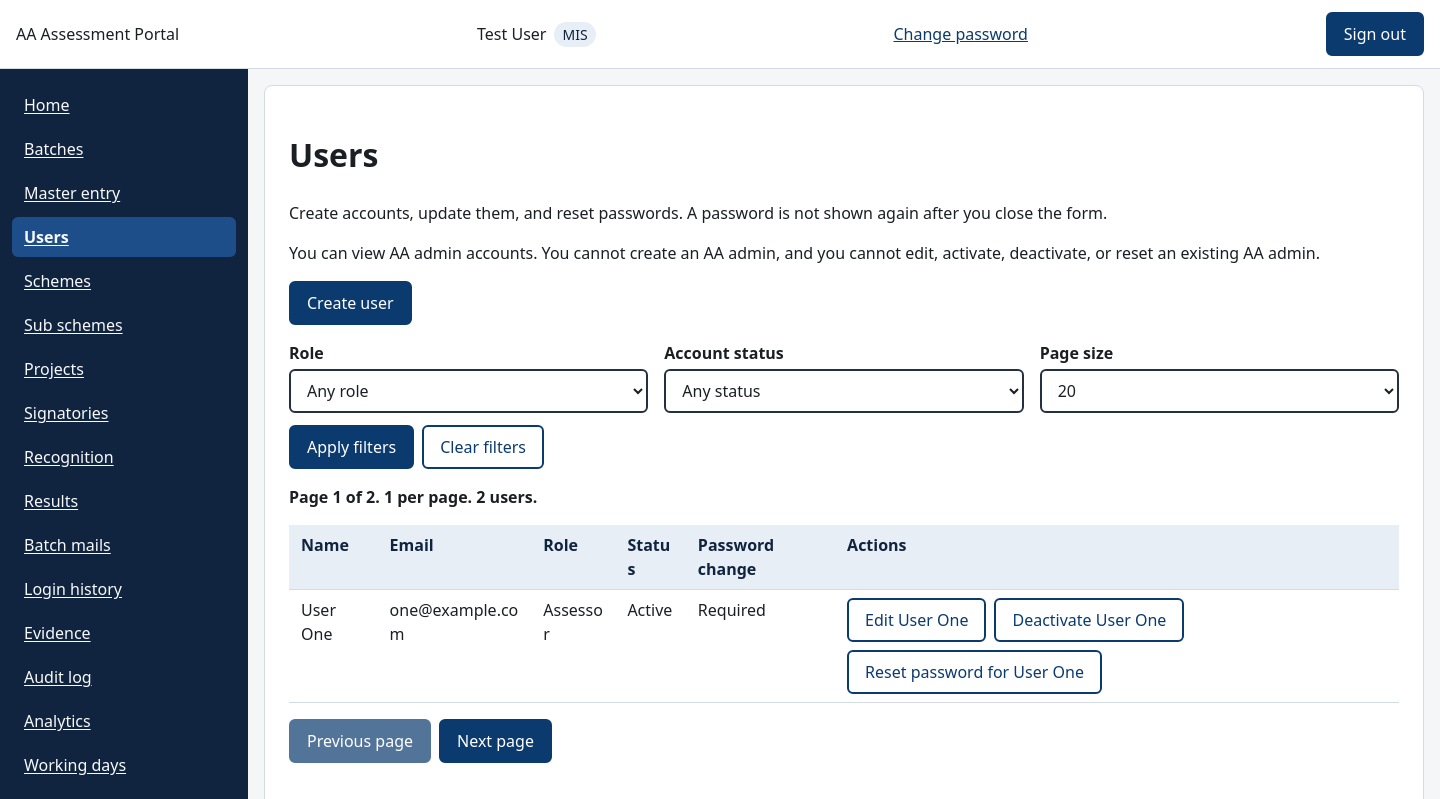
it: filters by role and account status and returns to page 1
Click the button "Next page" at (496, 741), box [439,719,552,763]
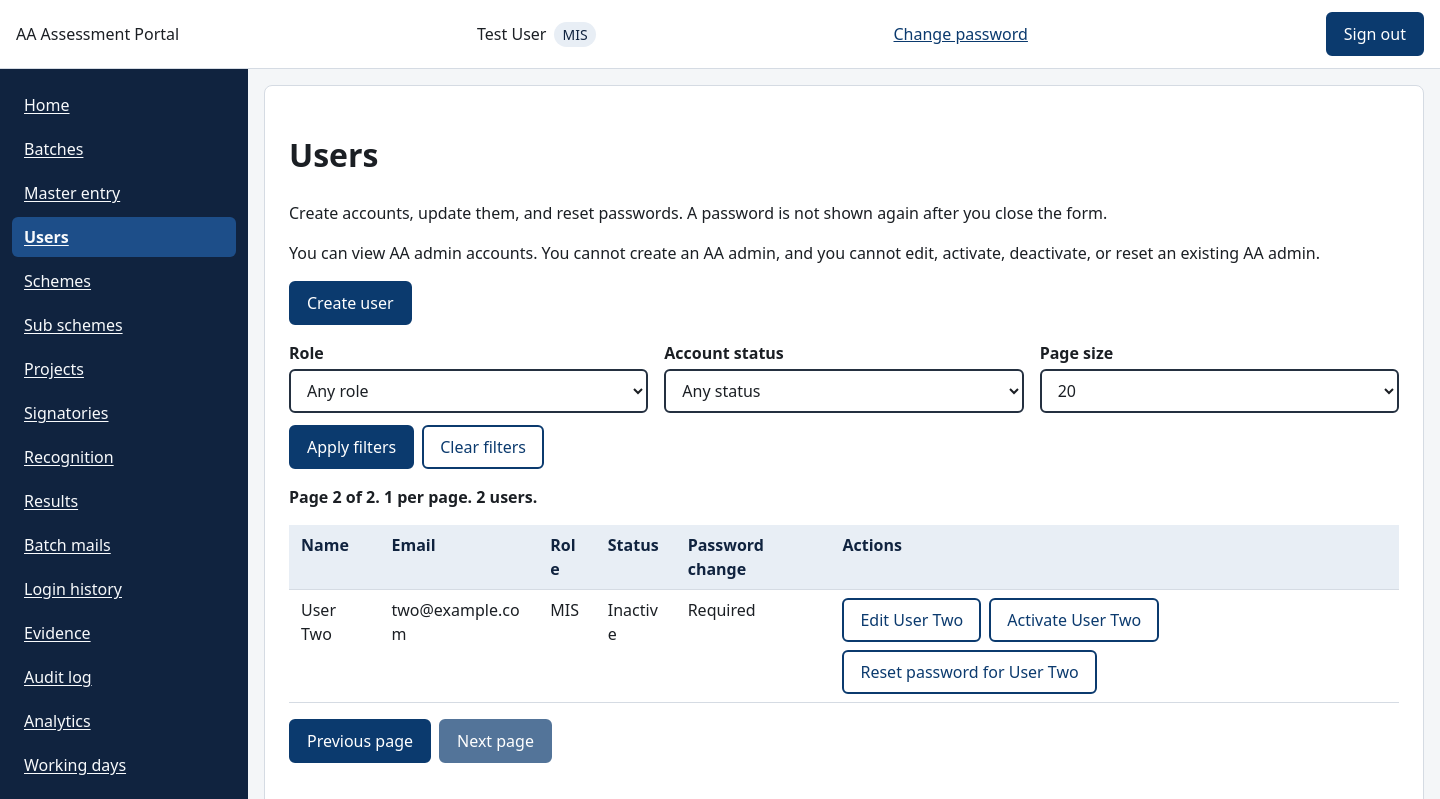
Now the cell "User Two" is shown, box [289,590,380,702]
Select "Assessor" in the dropdown labelled "Role" at (469, 391), box [289,369,648,413]
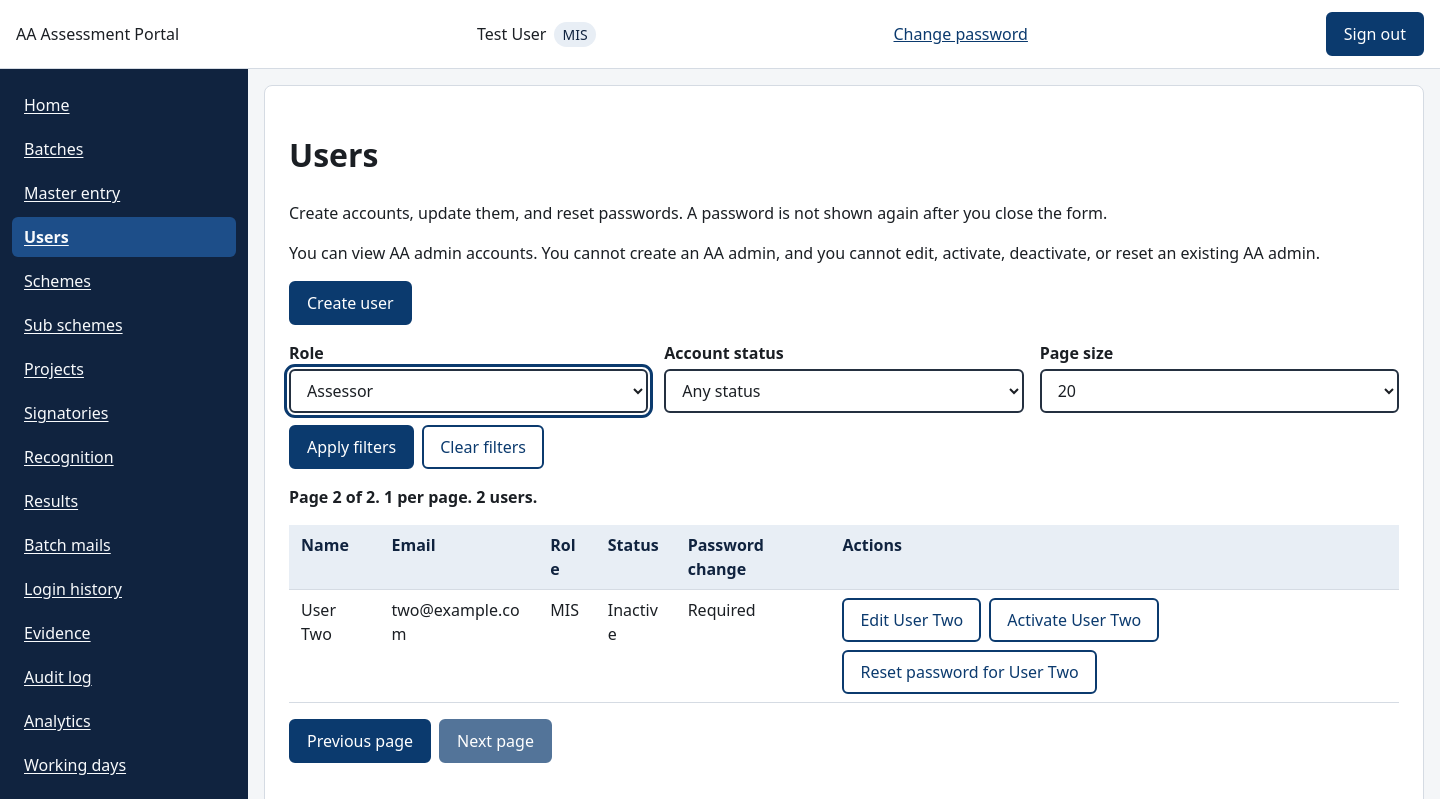
Select "Inactive" in the dropdown labelled "Account status" at (844, 391), box [664,369,1024,413]
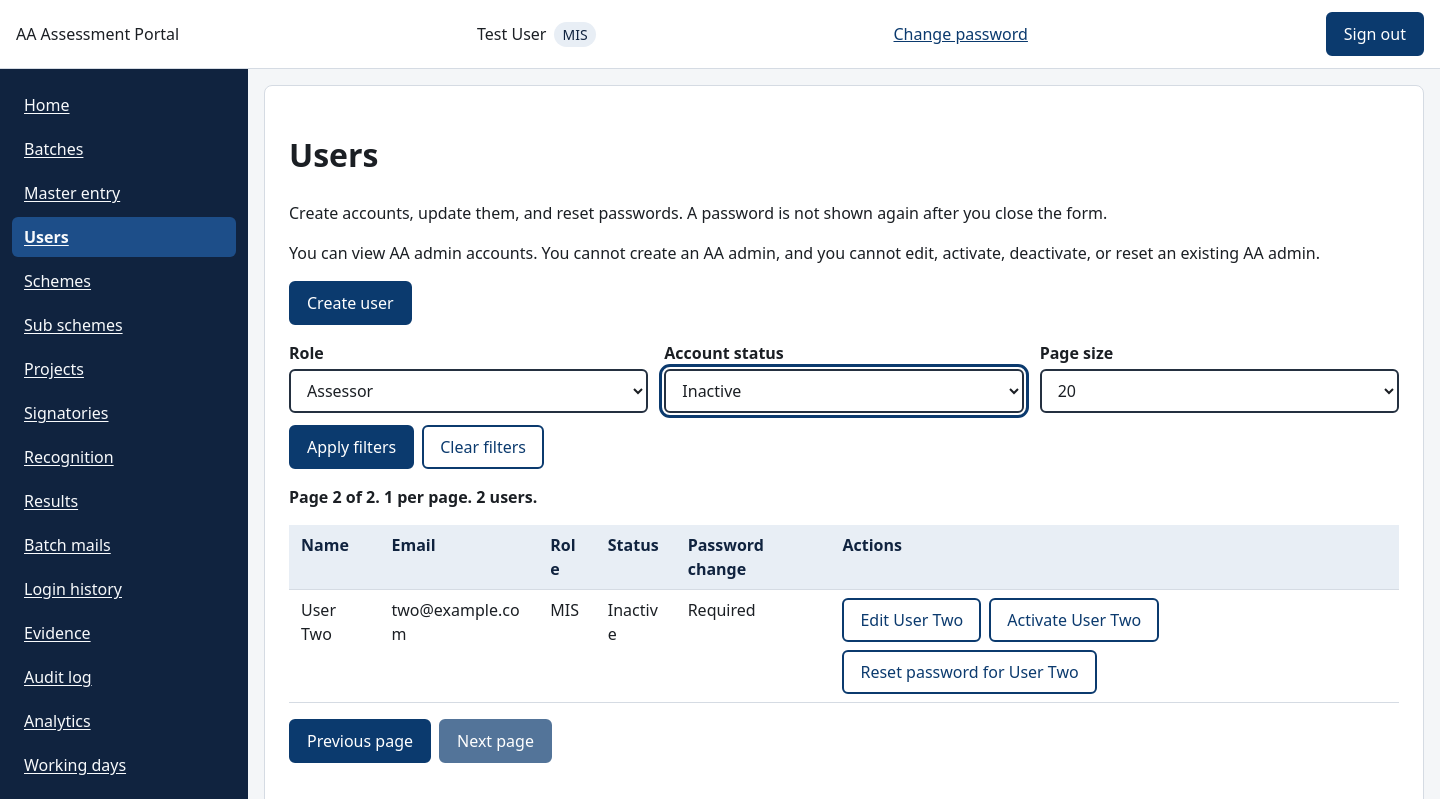
Select "50" in the dropdown labelled "Page size" at (1219, 391), box [1040,369,1399,413]
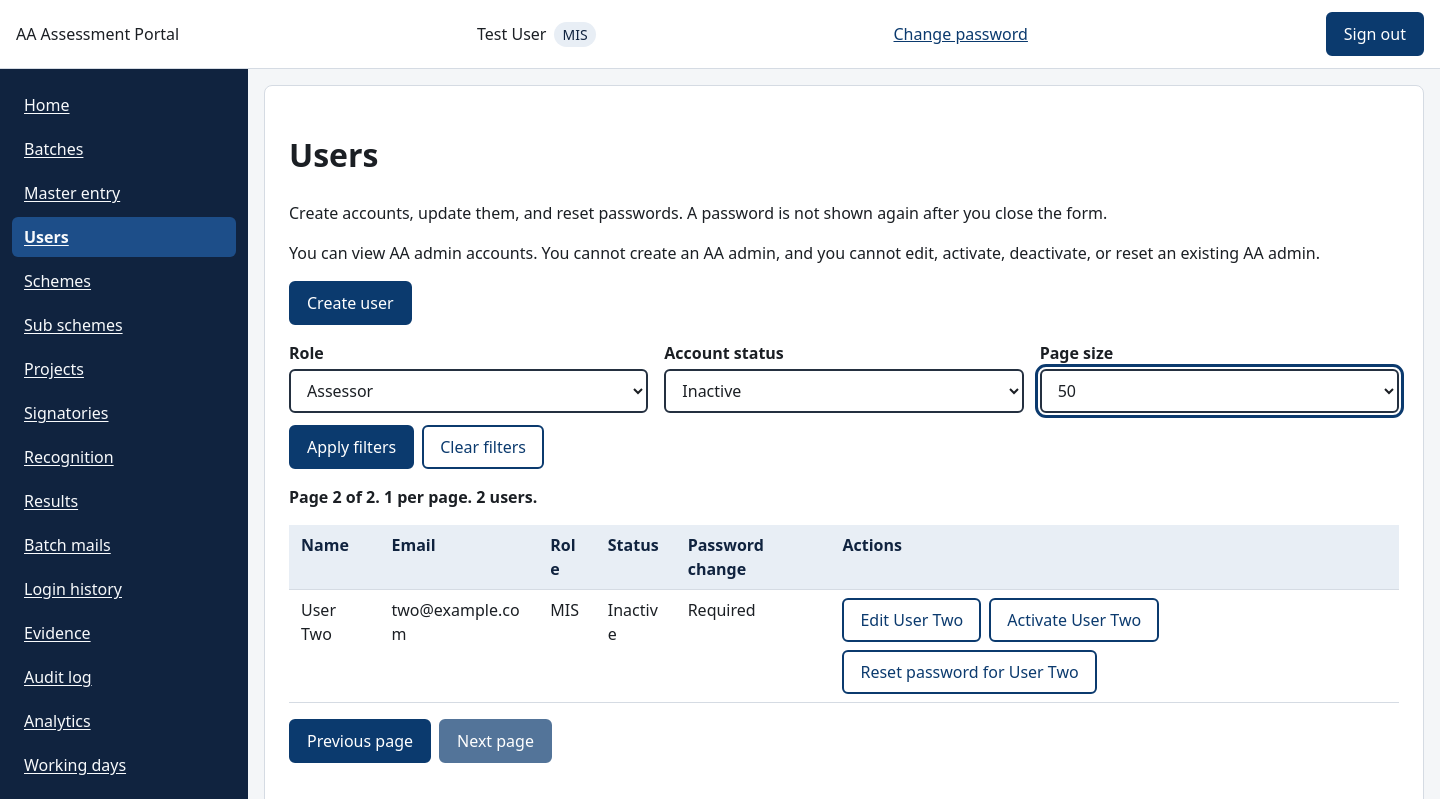
Click the button "Apply filters" at (352, 447), box [289,425,414,469]
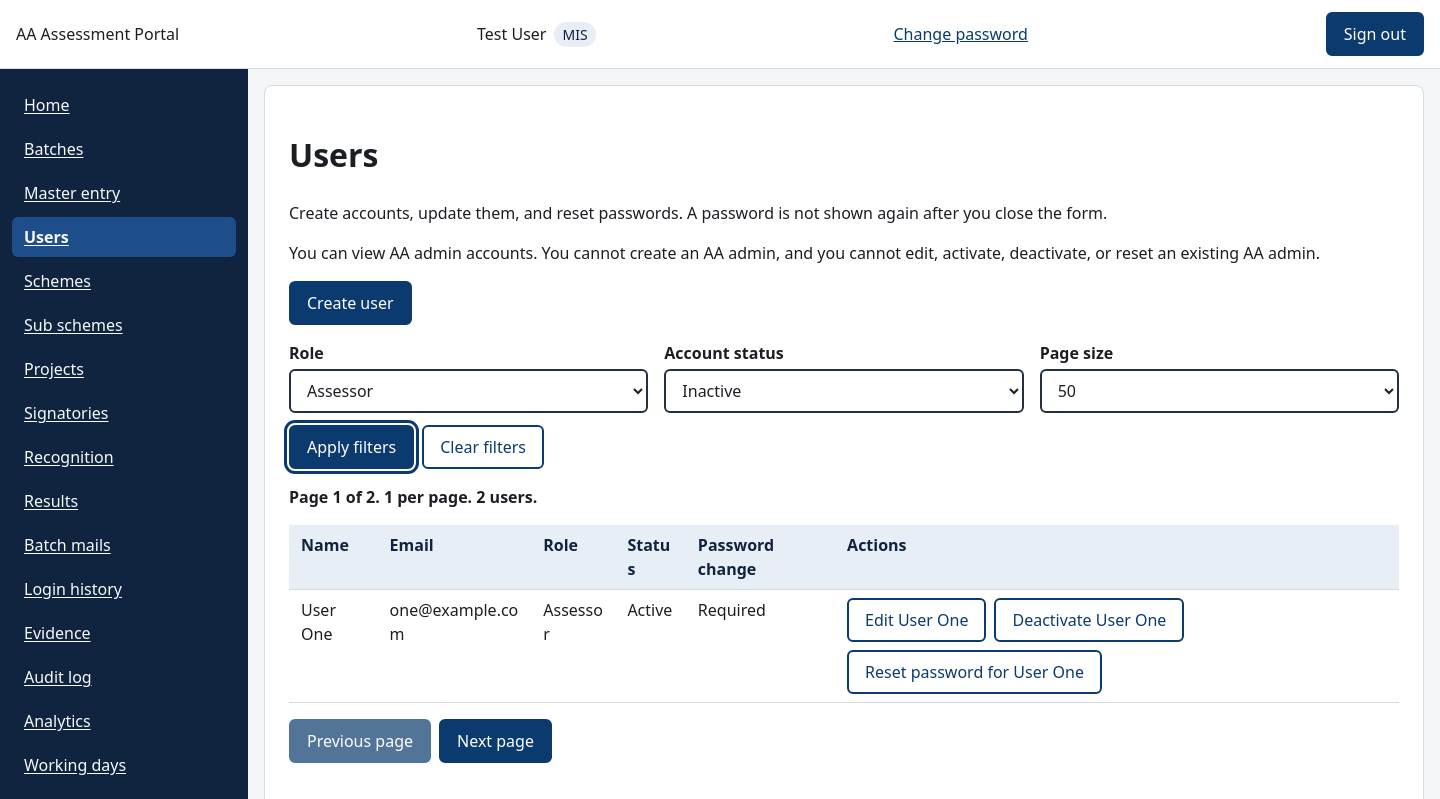
Now the cell "User One" is shown, box [289,590,378,702]
